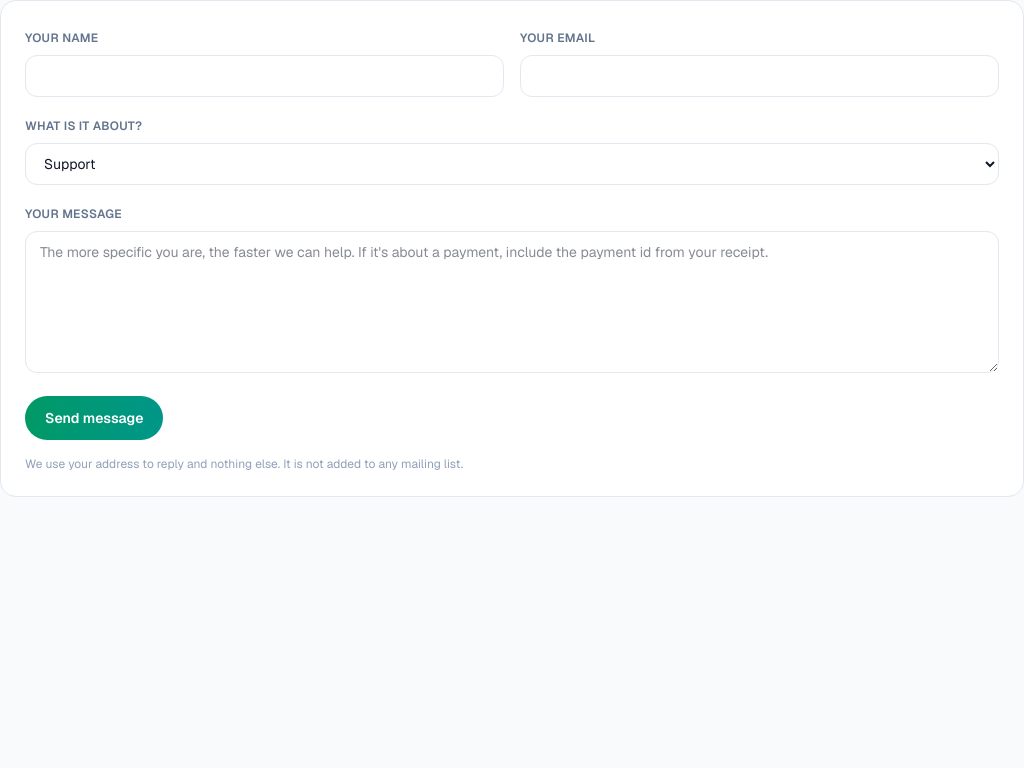
ContactForm › falls back to its own message when the request fails outright
The image size is (1024, 768).
In the field labelled "Your name": (264, 76) [25,55,504,97], type "Aarav Sharma"
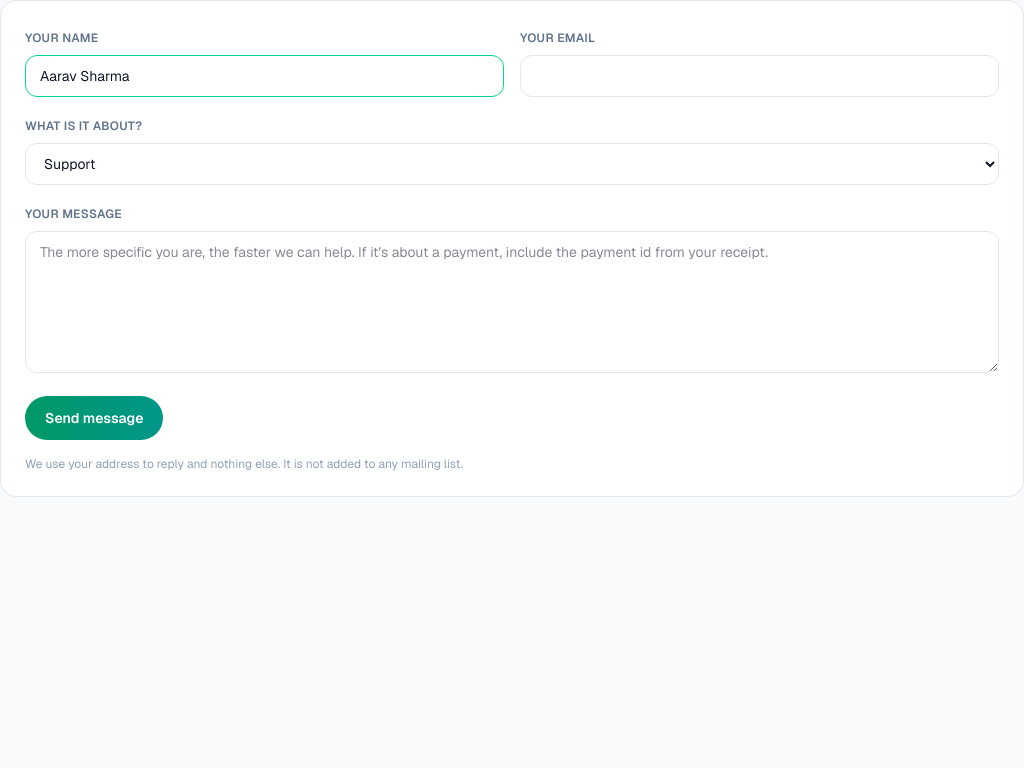
In the field labelled "Your email": (760, 76) [520,55,999,97], type "aarav@example.com"
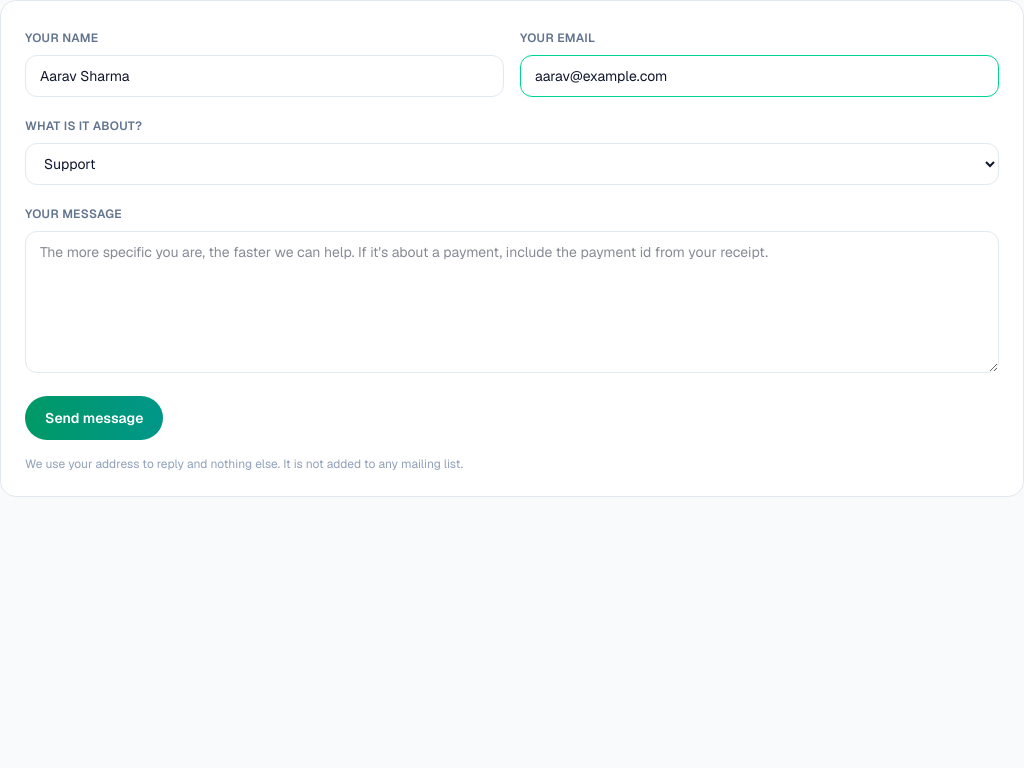
In the text box labelled "Your message": (512, 302) [25,231,999,373], type "The one-year return on the movers board looks wrong for RELIANCE."
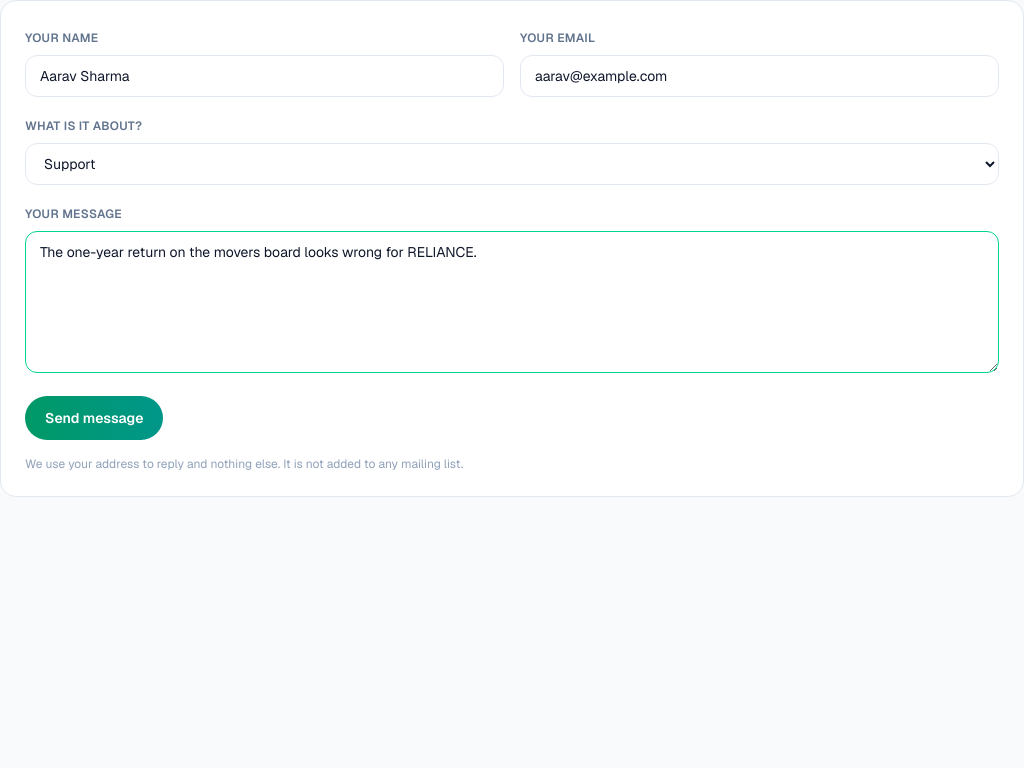
Click the button "Send message": (94, 418) [25,396,163,440]
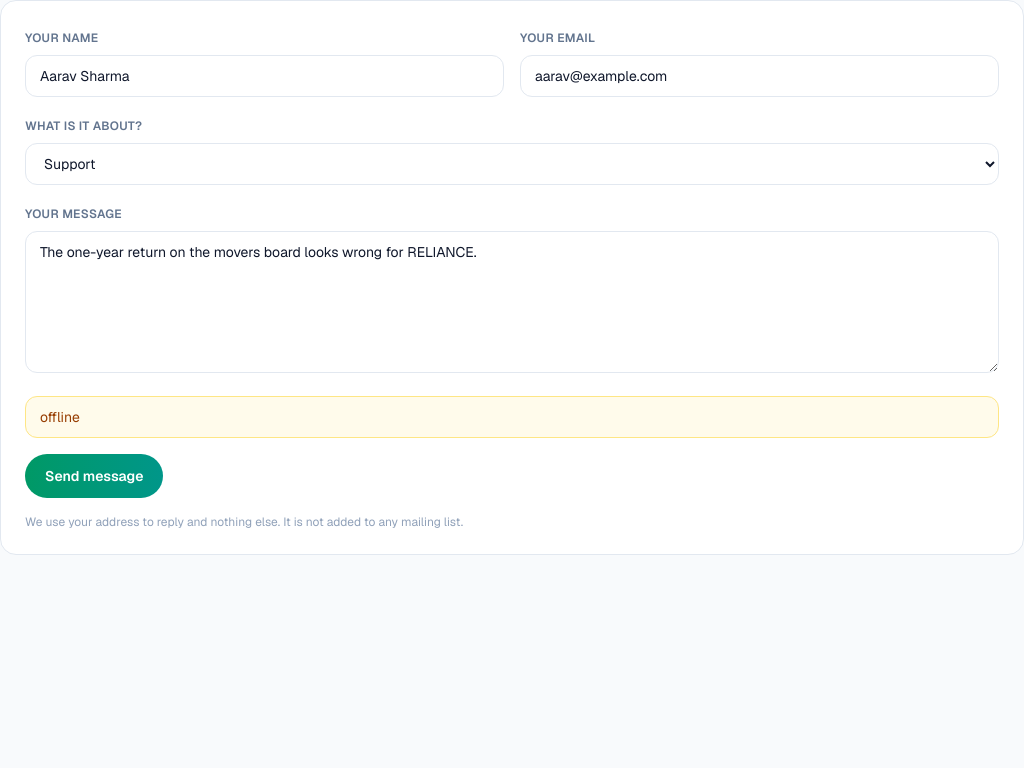
Expected: the message "offline" is shown, [25,396,999,438]
